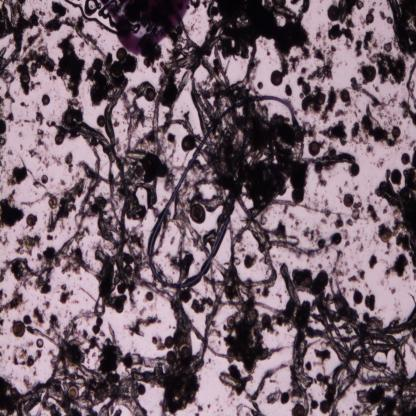Air bubble: (84, 0, 98, 16)
Background material: (279, 264, 416, 415), (219, 102, 304, 300), (0, 310, 153, 415), (84, 135, 154, 313), (152, 290, 224, 414), (148, 32, 268, 98), (203, 1, 315, 66), (0, 230, 93, 296), (373, 145, 416, 280), (45, 99, 119, 163), (224, 298, 284, 374), (44, 1, 102, 56), (86, 54, 138, 108), (46, 175, 86, 231), (246, 362, 288, 414), (54, 34, 86, 98), (0, 0, 38, 52), (18, 48, 57, 95), (361, 105, 401, 149), (387, 0, 416, 56), (296, 75, 326, 114), (371, 53, 406, 86), (350, 76, 385, 109), (220, 362, 254, 394), (300, 148, 356, 167), (25, 130, 52, 168), (13, 337, 45, 369), (308, 46, 336, 82), (126, 310, 163, 337), (0, 50, 17, 103), (0, 191, 25, 226), (317, 120, 349, 145), (23, 159, 48, 189), (319, 86, 337, 125), (0, 289, 25, 316), (384, 254, 410, 278), (328, 23, 355, 46), (16, 231, 40, 256), (302, 226, 328, 249), (330, 246, 347, 278), (342, 228, 366, 250), (5, 166, 28, 188), (339, 0, 363, 21), (357, 61, 377, 85), (346, 200, 364, 225), (399, 99, 416, 124), (312, 270, 328, 294), (267, 388, 291, 404), (58, 283, 74, 306), (351, 120, 366, 144), (364, 29, 378, 54), (313, 347, 331, 366), (242, 247, 257, 269), (366, 203, 381, 224), (363, 290, 376, 312), (0, 118, 9, 147), (64, 152, 76, 173), (32, 307, 46, 325), (387, 89, 401, 106), (347, 272, 366, 283), (315, 175, 328, 191), (92, 319, 105, 334), (288, 56, 300, 72), (38, 7, 46, 31), (316, 30, 328, 45), (334, 212, 344, 230), (334, 108, 349, 119), (381, 10, 392, 24), (331, 231, 342, 245), (355, 39, 362, 59), (284, 83, 294, 97), (368, 256, 378, 270), (35, 112, 44, 127), (24, 116, 36, 127), (6, 112, 17, 123), (55, 154, 63, 168), (23, 312, 31, 326), (346, 18, 355, 30), (382, 42, 392, 52), (0, 155, 6, 171), (18, 102, 30, 110), (299, 66, 308, 76), (256, 79, 264, 90), (14, 118, 23, 126), (390, 286, 396, 296), (8, 150, 14, 157), (17, 132, 22, 138), (36, 103, 40, 110), (20, 141, 23, 148)
Cellulose filter fibre: (406, 60, 416, 106)
Diatom: (191, 204, 205, 224), (12, 320, 25, 337), (181, 136, 196, 150), (270, 70, 283, 86), (327, 5, 340, 21), (116, 46, 128, 63), (379, 228, 391, 243), (390, 171, 402, 186), (53, 131, 65, 145), (343, 193, 354, 208), (309, 141, 320, 156), (67, 385, 77, 401), (166, 350, 176, 366), (339, 90, 350, 104), (320, 401, 331, 414), (107, 373, 120, 384), (401, 152, 411, 166), (353, 290, 363, 304), (262, 314, 272, 328), (20, 73, 32, 84), (293, 404, 305, 415), (96, 115, 106, 128), (48, 195, 58, 208), (26, 213, 36, 226), (145, 88, 154, 102), (392, 125, 401, 139), (164, 336, 174, 348), (137, 384, 146, 397), (350, 163, 359, 175), (40, 174, 50, 184), (304, 277, 313, 288), (227, 316, 235, 328), (124, 264, 132, 276), (42, 94, 50, 106), (366, 12, 374, 23), (146, 292, 153, 300)
Microfibre: (148, 96, 300, 289)
Pen: (100, 0, 190, 54)
